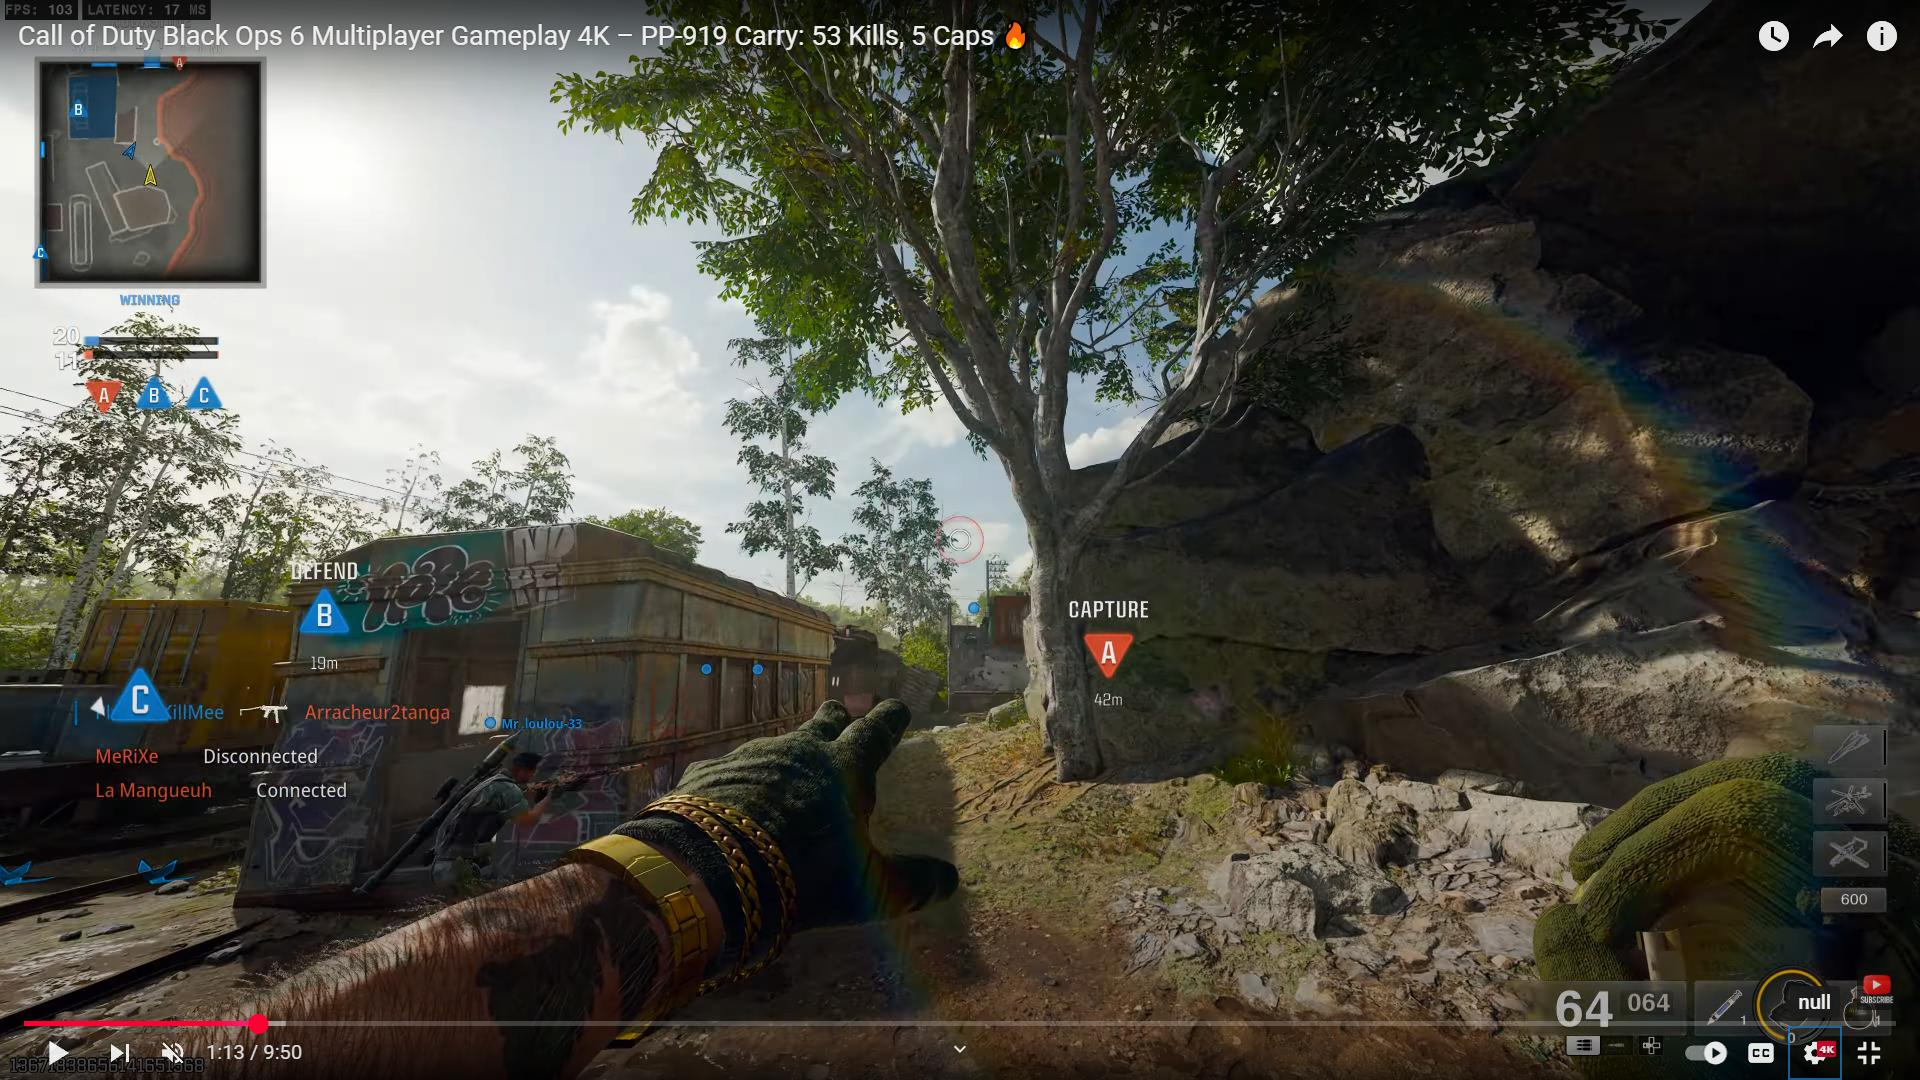Enemy: (427, 735, 564, 881)
